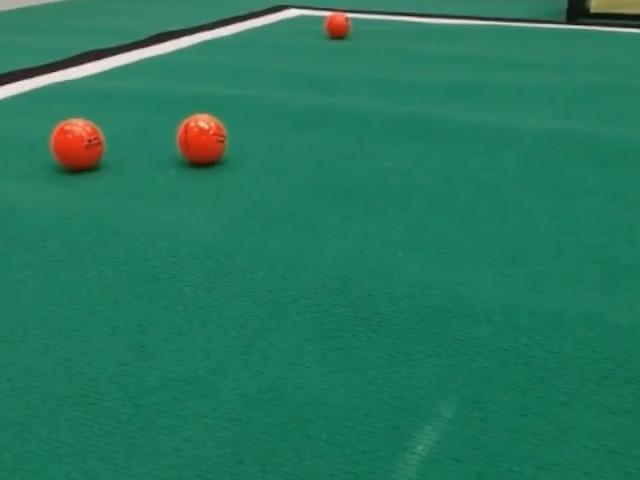Ball: (50, 118, 105, 171), (176, 113, 226, 165), (325, 12, 350, 39)
